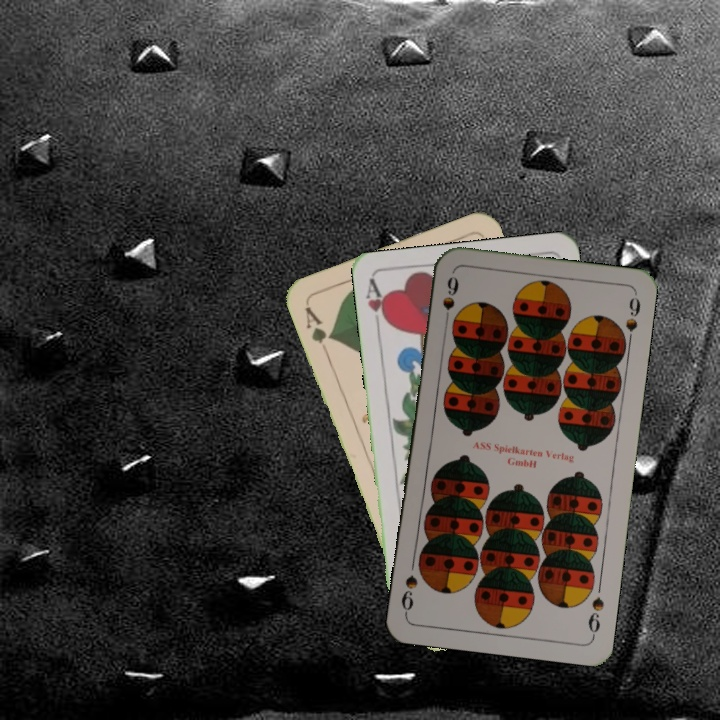GA: (300, 302, 336, 357)
HA: (361, 276, 392, 336)
S9: (438, 272, 461, 330), (584, 593, 607, 640)
